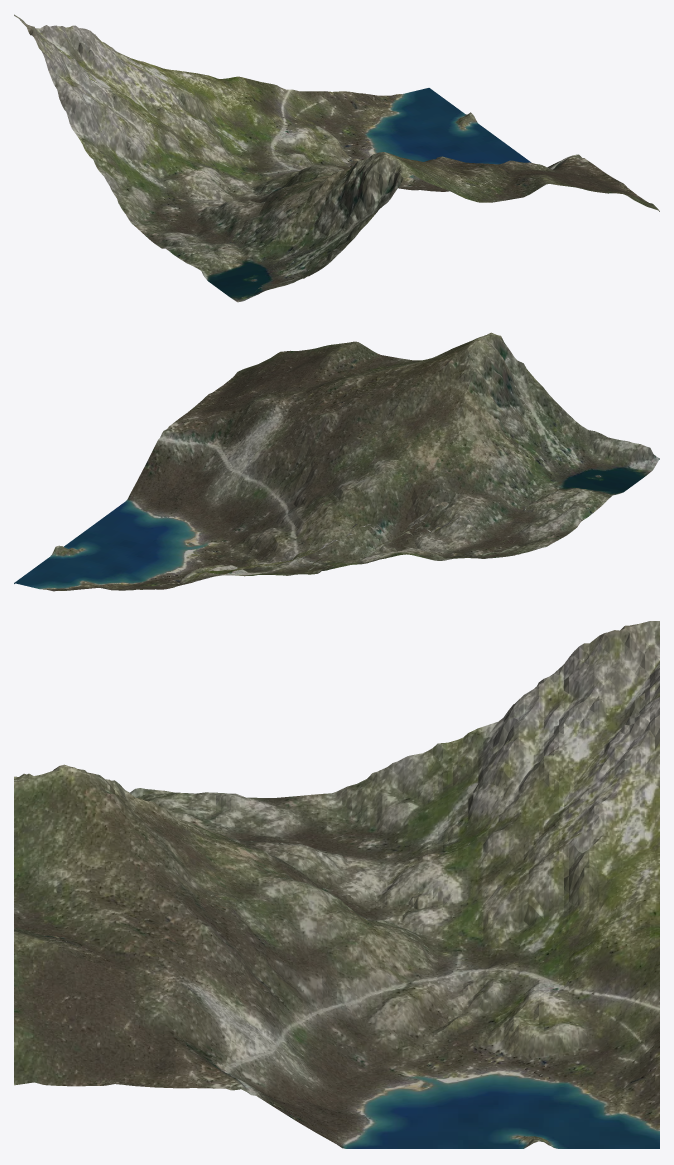
3 renders of one model, top to bottom at view 1: azimuth 30°, elevation 25°; view 2: azimuth 150°, elevation 25°; view 3: azimuth 270°, elevation 25°, orthographic. The views are drawn at different scales.
Bounding box in the file's own units: 2000 × 810 × 1925.
Materials: 1 (1 with a texture image).
